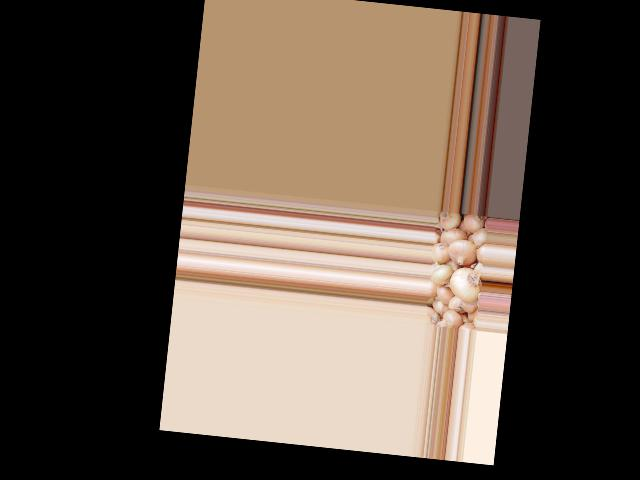onion: (440, 210, 461, 230)
